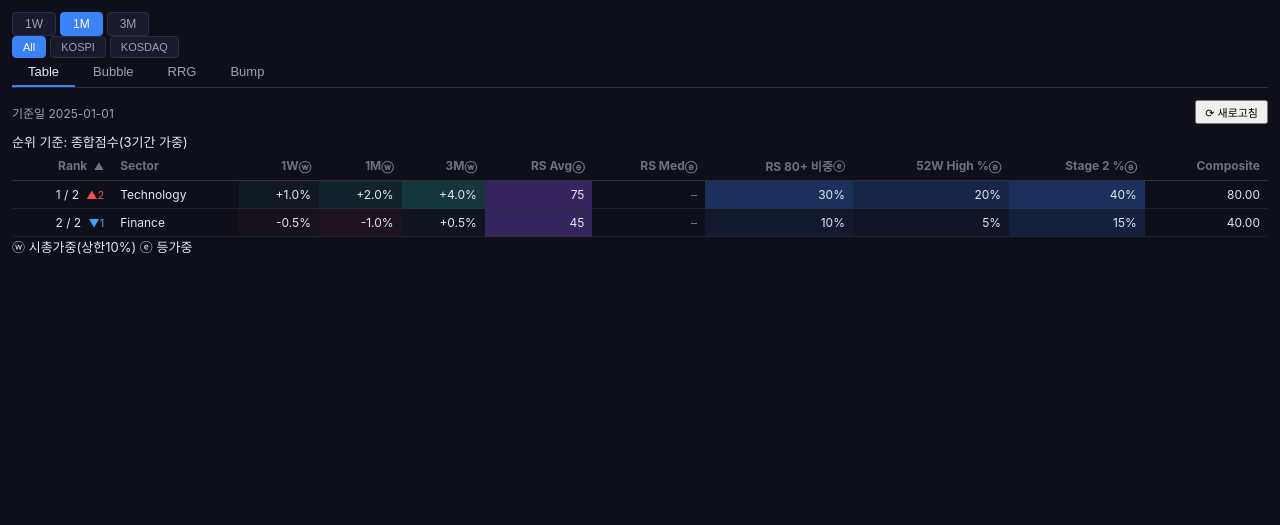
Scenario: SectorAnalysis — TR-3/TR-3b row click (REQ-SUX-009 / AC-SUX-011) › TR-3b: re-clicking the selected row clears selection + closes panel
Step 1. Click the text "Technology" → point(176, 194), box [112, 180, 240, 208]
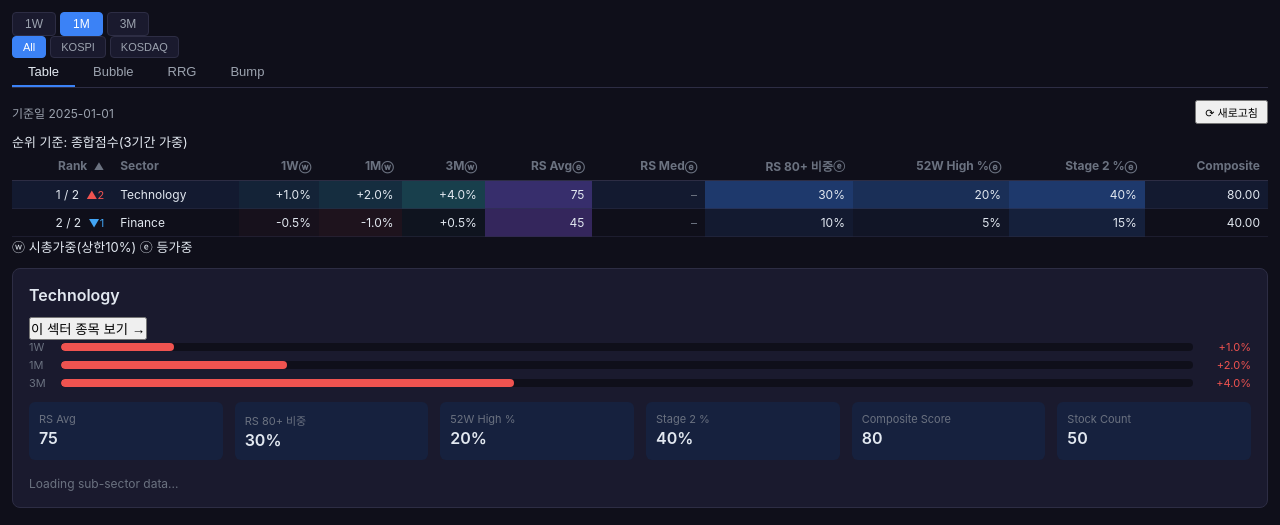
Result: the element with class "sector-detail-panel" is shown at [12, 268, 1268, 508]
Step 2. Click the text "Technology" → point(176, 194), box [112, 180, 240, 208]
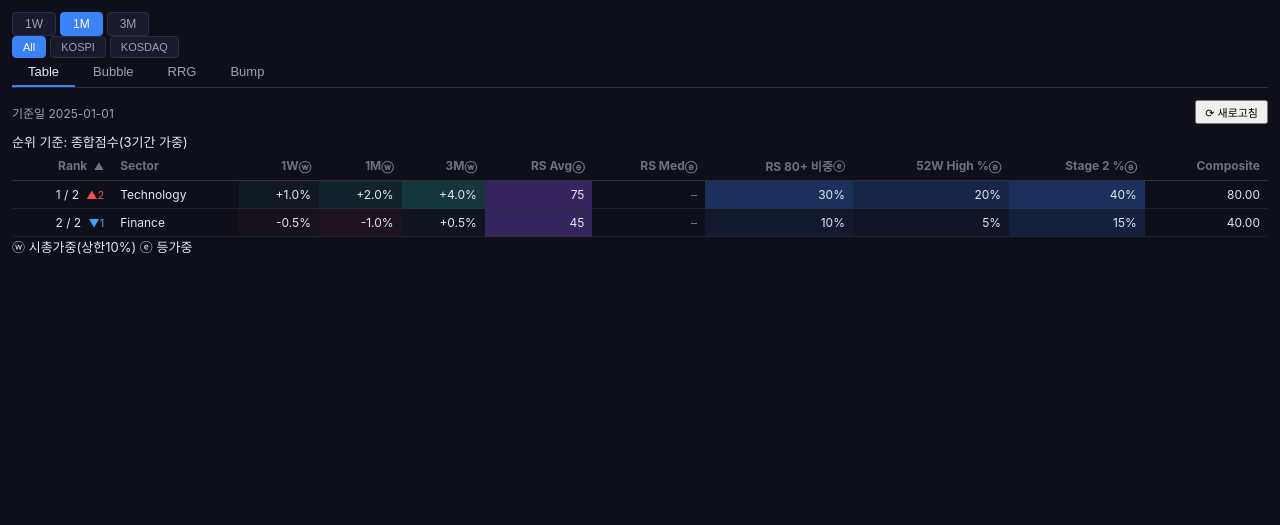
Result: the element with class "sector-detail-panel" is gone
